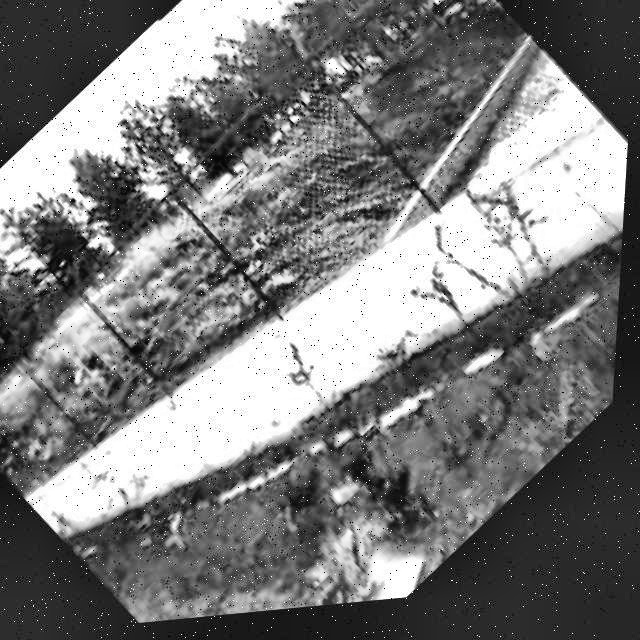Fire: (281, 494, 442, 616)
